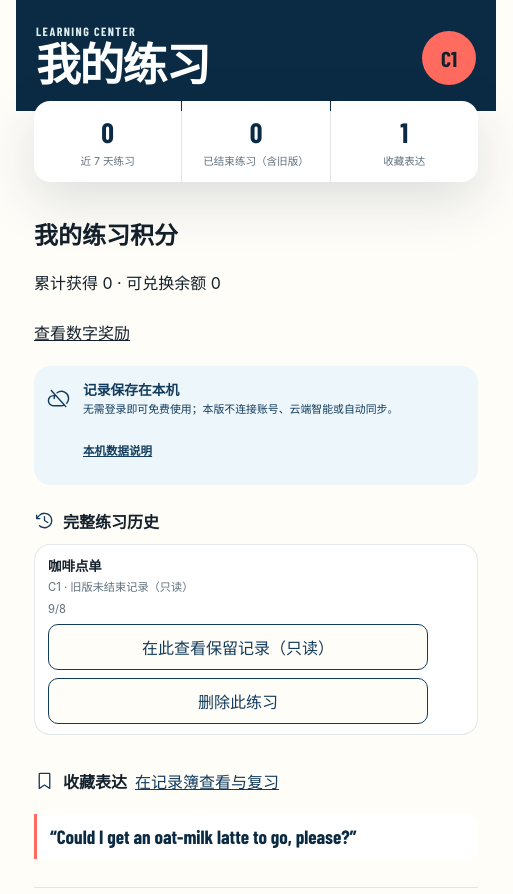
LearningCenter session routes › keeps imported non-route ID aaaaaaaaaaaaaaaaaaaaaaaaaaaaaaaaaaaaaaaaaaaaaaaaaaaaaaaaaaaaaaaaaaaaaaaaaaaaaaaaaaaaaaaaaaaaaaaaaaaaaaaaaaaaaaaaaaaaaaaaa visible wi
The image size is (513, 894).
Click the button "在此查看保留记录（只读）" at (238, 647), box left=48, top=624, right=428, bottom=670
(page scrolled)
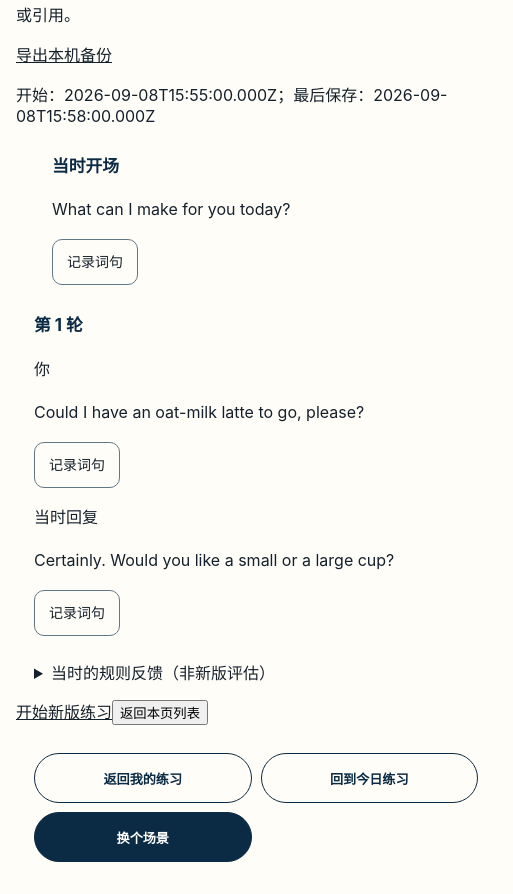
Check: the text "What can I make for you today?" is shown, box left=52, top=199, right=290, bottom=219
Check: the text "Could I have an oat-milk latte to go, please?" is shown, box left=34, top=402, right=364, bottom=422
Check: the text "Certainly. Would you like a small or a large cup?" is shown, box left=34, top=550, right=394, bottom=570
Click the button "返回本页列表" at (160, 713), box left=112, top=700, right=208, bottom=725
(page scrolled)
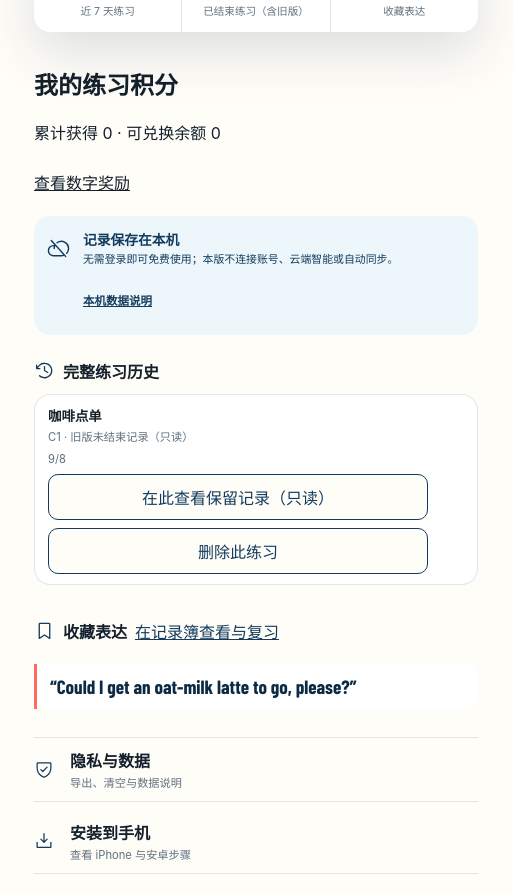
Check: the button "在此查看保留记录（只读）" is shown, box left=48, top=474, right=428, bottom=520
